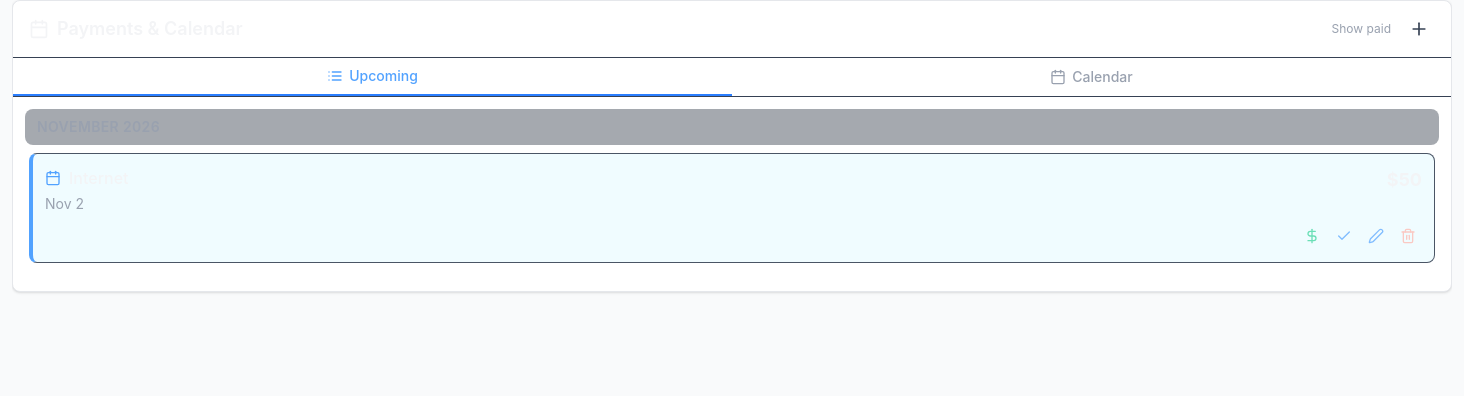
RemindersWidget › tab switching › returns to the upcoming list when clicking the Upcoming tab
Click the button "Calendar".
click(1092, 77)  # box x1=732 y1=58 x2=1451 y2=96
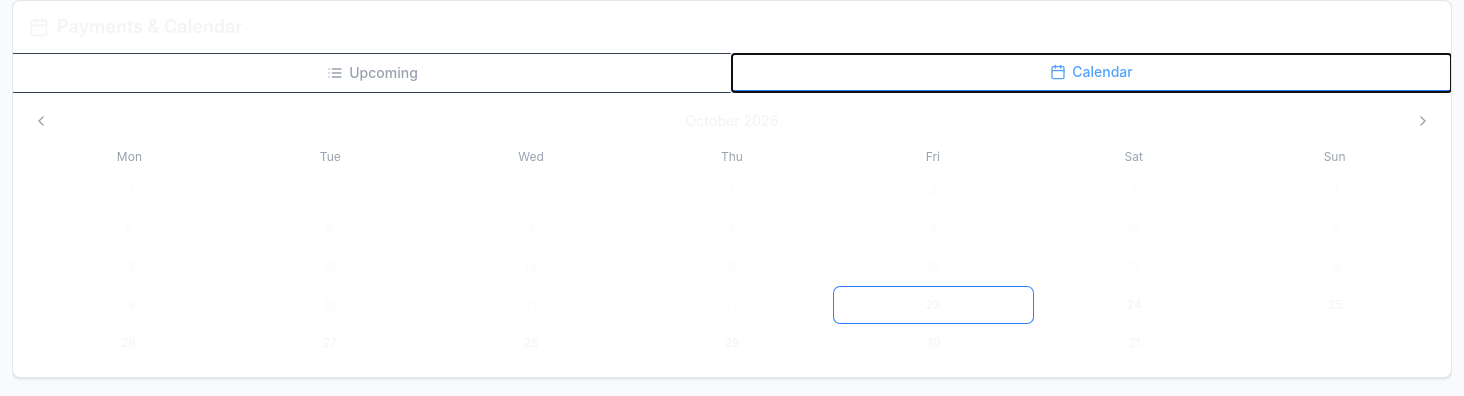
Click the button "Upcoming".
click(372, 73)  # box x1=13 y1=54 x2=732 y2=92
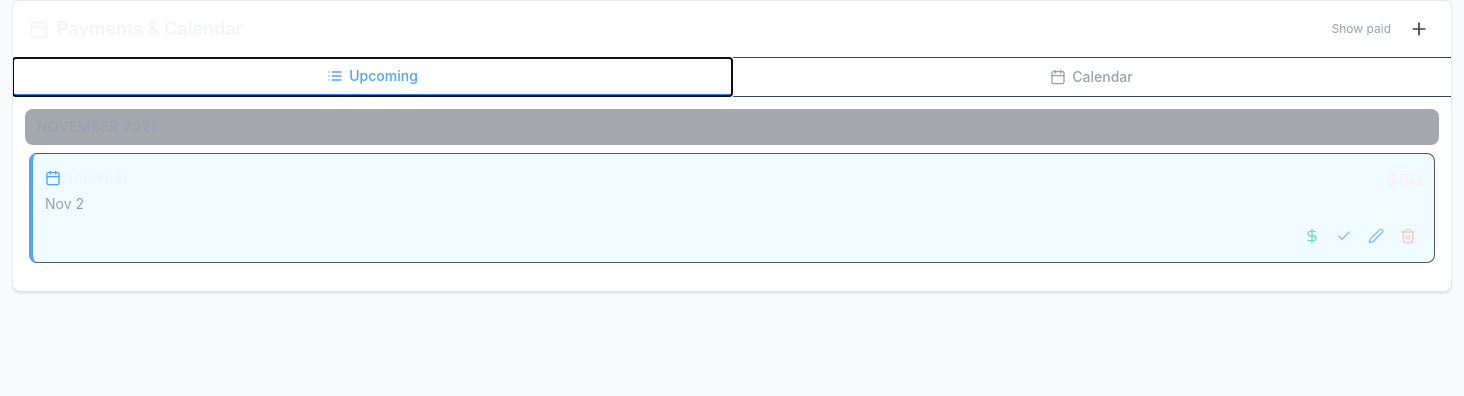
Expected: the button named "add new reminder" is shown, x1=1403 y1=13 x2=1435 y2=45
